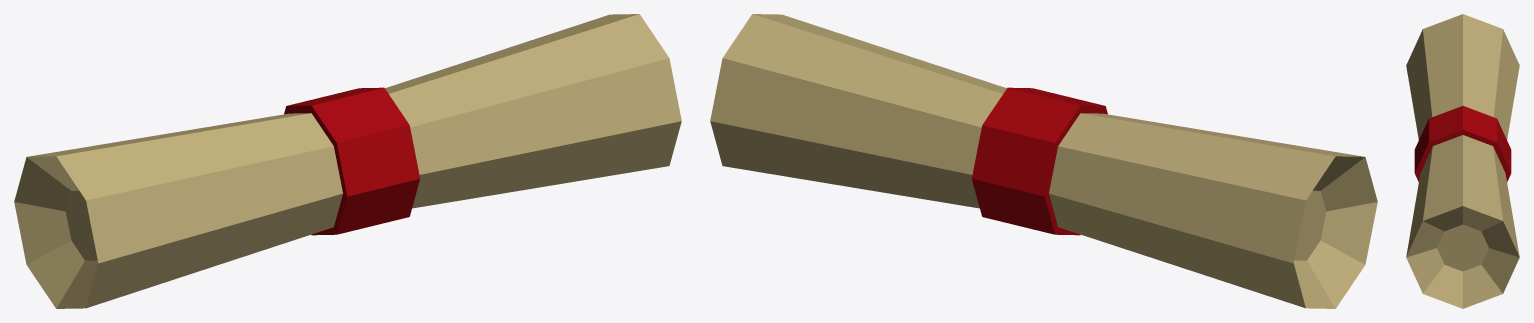
File: Scroll.fbx
3 views of the same model, side by side, from view 1: azimuth 30°, elevation 25°; view 2: azimuth 150°, elevation 25°; view 3: azimuth 270°, elevation 25° (orthographic). The views are drawn at different scales.
Visible parts, largest first — view 1: Scroll; view 2: Scroll; view 3: Scroll.
Boxes of the visible parts, bbox=[...] form: Scroll: bbox=[14, 14, 681, 308]; Scroll: bbox=[710, 14, 1377, 308]; Scroll: bbox=[1406, 14, 1519, 308].
Size of the model in its own units: 100 by 25 by 25.
